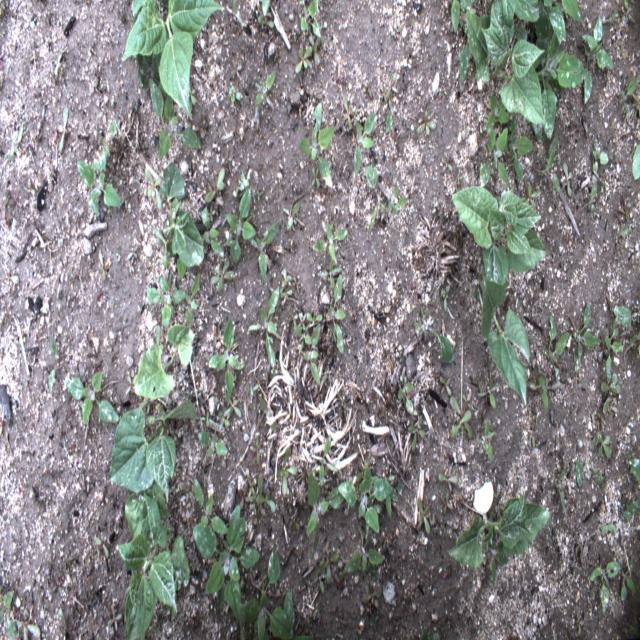crop: (122, 0, 225, 120), (116, 477, 191, 639), (452, 184, 552, 300), (447, 490, 551, 588), (466, 0, 547, 125), (109, 398, 201, 503), (481, 272, 530, 406), (151, 161, 205, 269), (134, 324, 196, 402), (501, 0, 540, 29)
weed: (516, 0, 586, 144), (192, 504, 260, 618), (237, 547, 315, 639), (149, 75, 203, 163), (339, 465, 398, 534), (306, 472, 348, 563), (298, 101, 336, 190), (208, 315, 246, 399), (65, 370, 120, 428), (76, 152, 124, 217), (581, 17, 615, 104), (344, 516, 385, 579), (225, 188, 256, 264), (146, 272, 188, 328), (249, 288, 279, 366), (413, 309, 454, 363), (193, 478, 229, 536), (572, 298, 600, 372), (480, 122, 510, 190), (250, 220, 280, 284), (510, 111, 533, 185), (354, 113, 379, 179), (364, 164, 388, 232), (545, 314, 569, 382), (326, 274, 346, 354), (590, 561, 620, 613), (310, 222, 349, 261), (459, 6, 477, 86), (612, 305, 640, 353), (447, 390, 473, 440), (539, 134, 560, 194), (200, 207, 224, 258), (318, 433, 340, 488), (302, 323, 320, 385), (484, 91, 509, 135), (275, 446, 297, 494), (606, 317, 622, 382), (543, 1, 566, 46), (318, 541, 341, 583), (184, 271, 200, 330), (474, 419, 496, 461), (525, 373, 549, 411), (198, 430, 230, 458), (316, 258, 343, 291), (210, 257, 234, 293), (3, 120, 24, 161), (0, 589, 17, 639), (450, 1, 475, 34), (621, 553, 637, 602), (300, 1, 320, 39), (207, 166, 226, 204), (255, 69, 275, 105), (396, 375, 414, 414), (407, 414, 425, 453), (620, 76, 638, 115), (260, 396, 279, 432), (388, 183, 408, 217), (146, 166, 162, 208), (478, 377, 499, 409), (590, 428, 611, 458), (292, 326, 314, 354), (281, 202, 301, 232), (48, 335, 58, 394), (104, 119, 119, 158), (592, 138, 608, 173), (439, 463, 458, 492), (58, 105, 69, 155), (555, 464, 566, 514), (362, 581, 382, 608), (416, 110, 436, 136), (417, 496, 430, 536), (619, 190, 634, 224), (600, 372, 622, 395), (294, 46, 312, 74), (309, 31, 323, 67), (223, 391, 242, 417), (255, 474, 266, 517), (561, 0, 582, 22), (257, 1, 274, 28), (16, 621, 41, 639), (106, 604, 122, 632), (590, 461, 607, 487), (524, 184, 541, 209), (256, 490, 275, 512), (594, 334, 609, 361), (385, 69, 398, 99), (194, 110, 206, 142), (622, 498, 640, 519), (626, 459, 640, 486), (227, 0, 242, 25), (343, 96, 354, 130), (562, 161, 572, 196), (234, 174, 249, 197), (440, 152, 455, 175), (356, 458, 369, 484), (388, 472, 402, 496), (96, 535, 109, 559), (632, 143, 640, 182), (438, 374, 452, 396), (601, 396, 618, 414), (199, 409, 215, 428), (125, 374, 139, 395), (252, 434, 262, 463), (440, 491, 452, 515), (624, 0, 636, 24), (139, 395, 153, 415), (385, 99, 393, 134), (574, 455, 582, 490), (239, 484, 250, 509), (187, 79, 197, 106), (600, 522, 618, 537), (218, 409, 230, 431), (362, 76, 374, 98), (589, 180, 597, 213), (247, 473, 257, 499), (177, 254, 187, 280), (440, 284, 450, 310), (228, 85, 242, 103), (473, 274, 483, 298), (54, 52, 63, 77), (99, 250, 106, 282), (326, 149, 336, 171), (632, 91, 640, 118), (281, 266, 291, 287), (391, 16, 402, 35), (379, 84, 389, 104), (288, 306, 298, 326), (312, 165, 321, 187), (126, 254, 135, 275), (530, 417, 536, 448), (206, 205, 216, 223), (307, 310, 322, 322), (231, 60, 242, 76), (246, 384, 259, 397), (317, 570, 324, 594), (576, 611, 583, 635), (127, 245, 138, 260), (297, 312, 306, 330), (156, 325, 163, 348), (183, 486, 193, 502), (292, 276, 300, 293), (280, 288, 293, 298), (290, 517, 300, 530), (302, 466, 312, 479), (215, 396, 224, 409), (312, 603, 318, 618), (250, 504, 256, 518)
